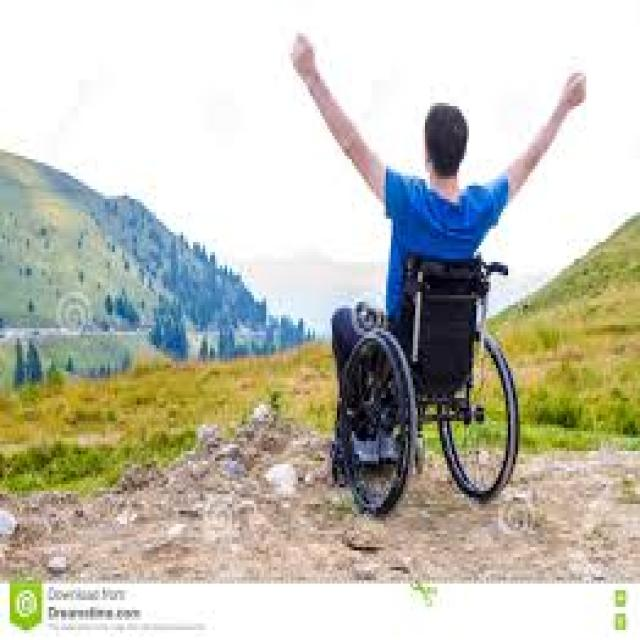wheelchairs: (306, 245, 538, 514)
